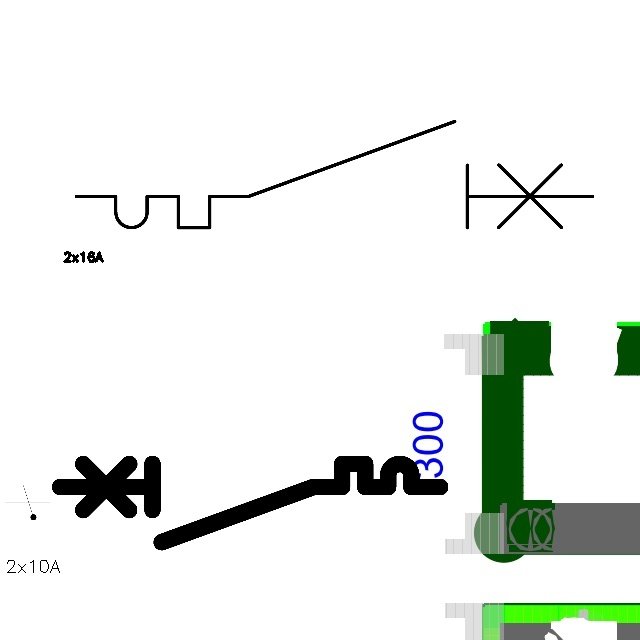interruptor_termomagnetico: (63, 108, 606, 241), (50, 454, 449, 552)
